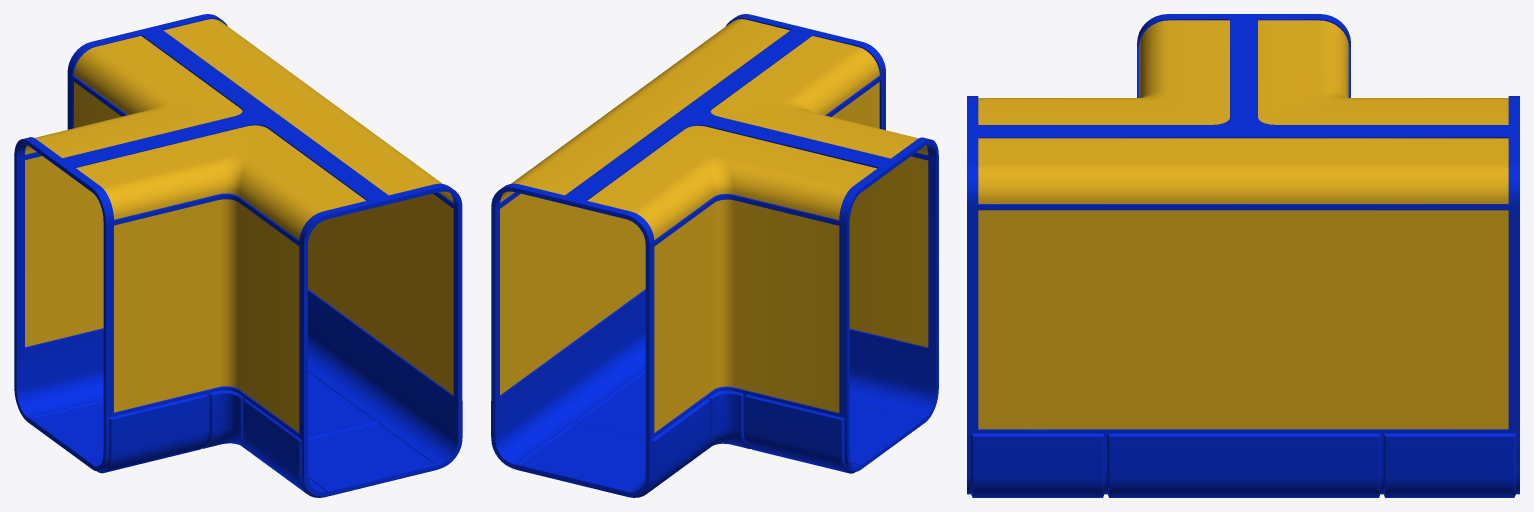
Rendered from Corridor03.fbx.
3 views of the same model, side by side, from view 1: azimuth 30°, elevation 25°; view 2: azimuth 150°, elevation 25°; view 3: azimuth 270°, elevation 25° (orthographic). The views are drawn at different scales.
Visible parts, largest first — view 1: SM_Corridor03; view 2: SM_Corridor03; view 3: SM_Corridor03.
Boxes of the visible parts, x1,y1,x2,y2 form: SM_Corridor03: [14, 14, 462, 497]; SM_Corridor03: [491, 14, 938, 497]; SM_Corridor03: [967, 14, 1519, 497].
Bounding box in the file's own units: 2.8 × 2.65 × 4.
